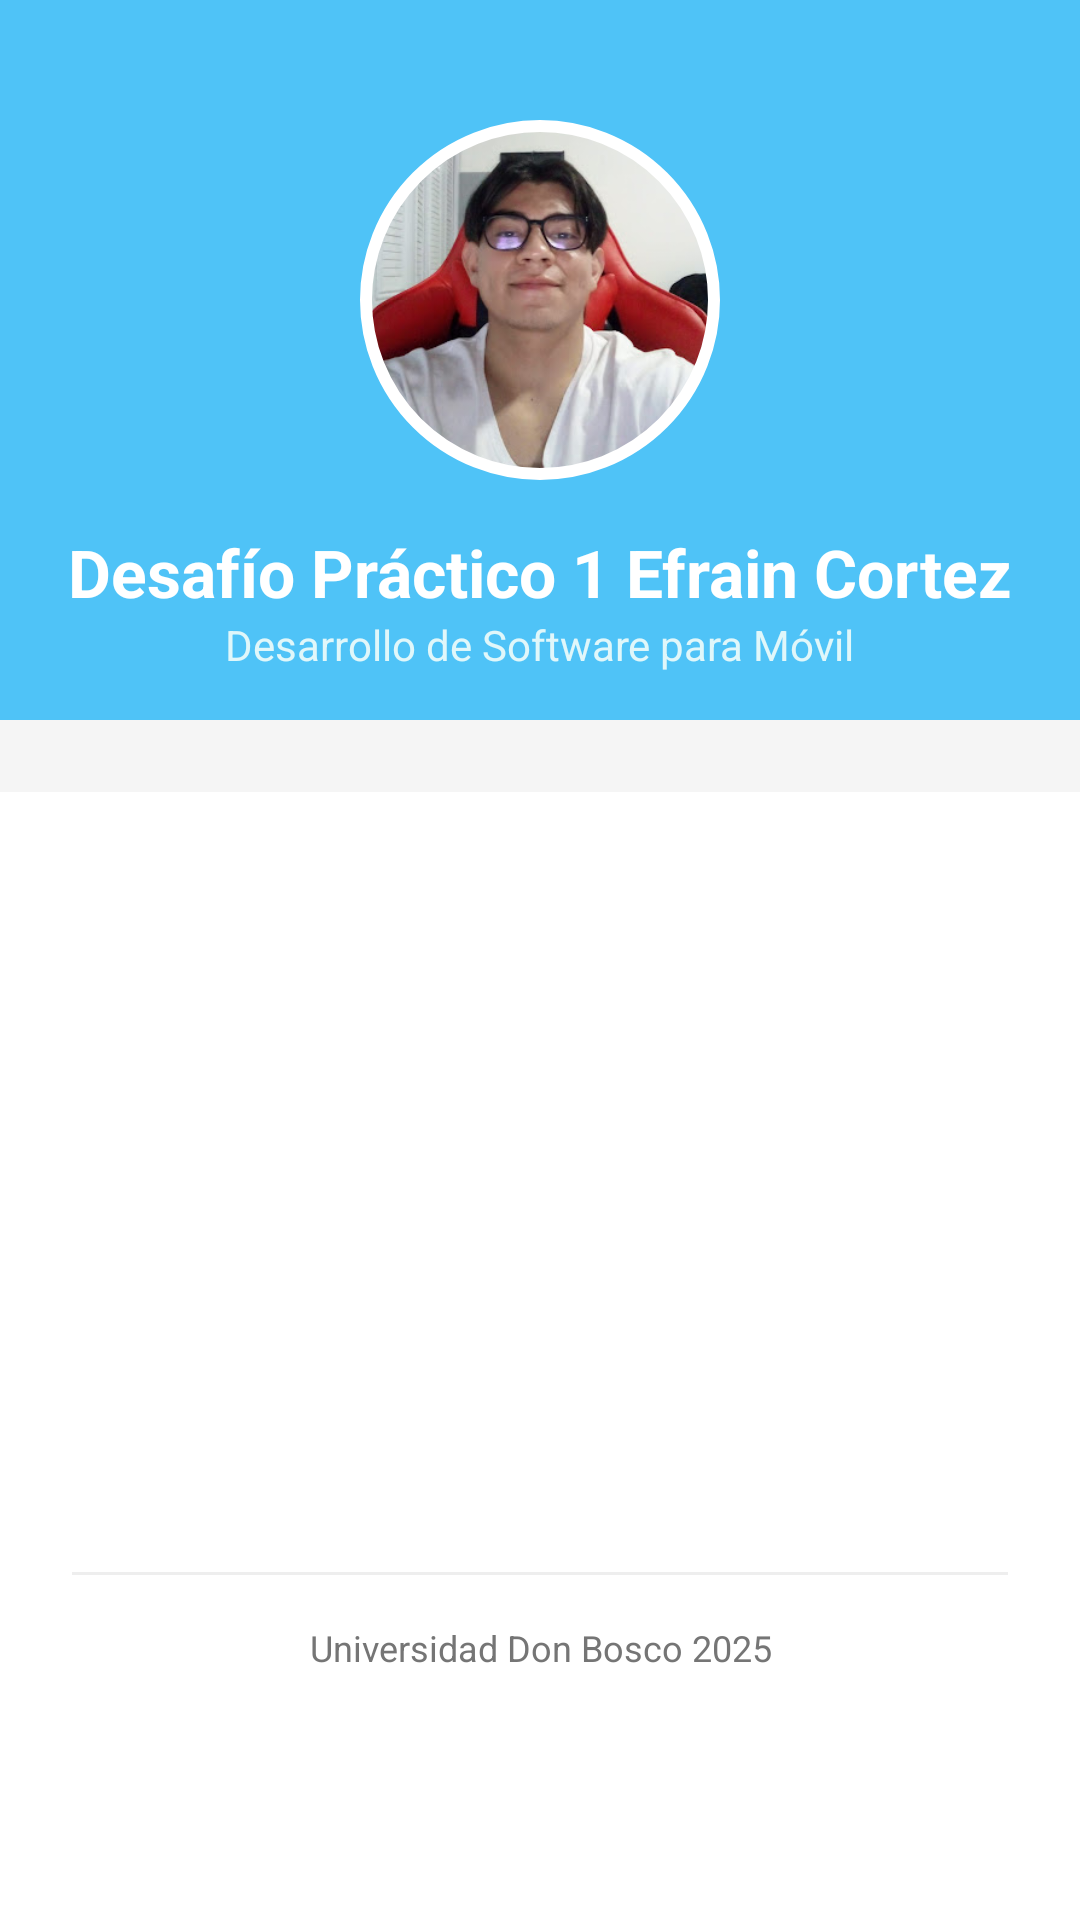

Point at icon controls on the screen. Image size 1080 x 1920, points as (x,y).
mi foto: (540,300)
